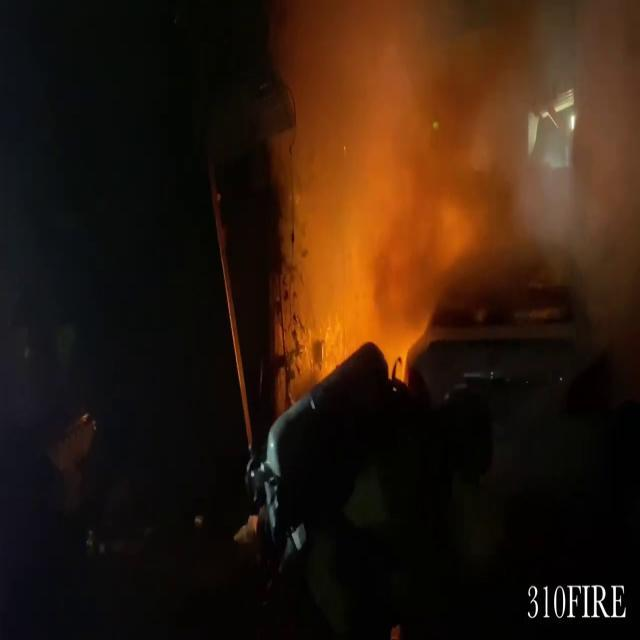Smoke: (257, 0, 640, 342)
